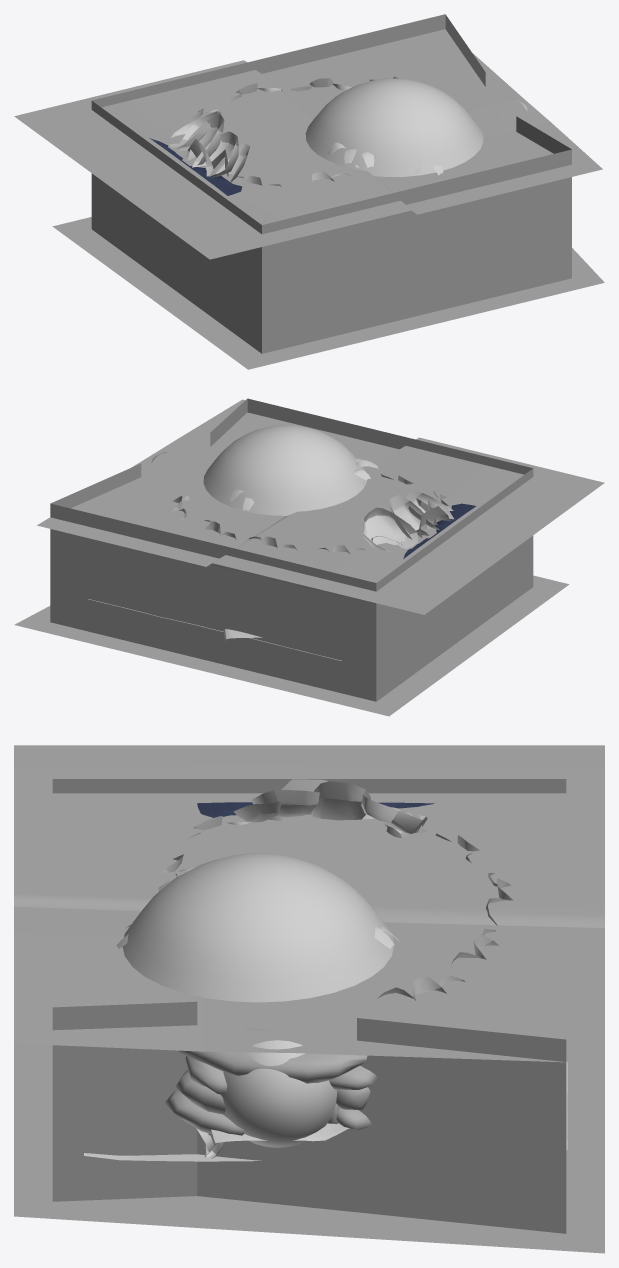
Rendered from SM_Cave.fbx.
The picture shows the model from 3 angles, top to bottom: view 1: azimuth 30°, elevation 25°; view 2: azimuth 150°, elevation 25°; view 3: azimuth 270°, elevation 25°; orthographic projection. The views are drawn at different scales.
Parts seen in each view (by area): view 1: SM_ParaLuz, SM_SphereTop, ParedCueva_low4, SM_Ceiling; view 2: SM_ParaLuz, SM_SphereTop, ParedCueva_low4, SM_Ceiling; view 3: SM_ParaLuz, SM_SphereTop, SM_CaveEntrance, SM_SphereDoor, ParedCueva_low4, SM_GroundLow, SM_Ceiling, SM_SueloEntrada, ParedCueva_low2.
Boxes of the visible parts, x1,y1,x2,y2 form: SM_ParaLuz: (14,14,604,369); SM_SphereTop: (305,78,483,176); ParedCueva_low4: (170,111,249,183); SM_Ceiling: (149,138,242,195); SM_ParaLuz: (14,398,604,716); SM_SphereTop: (203,425,366,515); ParedCueva_low4: (363,491,453,551); SM_Ceiling: (210,503,476,600); SM_ParaLuz: (14,745,604,1253); SM_SphereTop: (122,853,394,1002); SM_CaveEntrance: (165,1028,377,1135); SM_SphereDoor: (220,1040,336,1147); ParedCueva_low4: (233,779,427,837); SM_GroundLow: (84,1062,567,1161); SM_Ceiling: (197,802,434,817); SM_SueloEntrada: (211,1123,349,1143); ParedCueva_low2: (377,975,465,1000).
Bounding box in the file's own units: 1418 × 522 × 1080.
